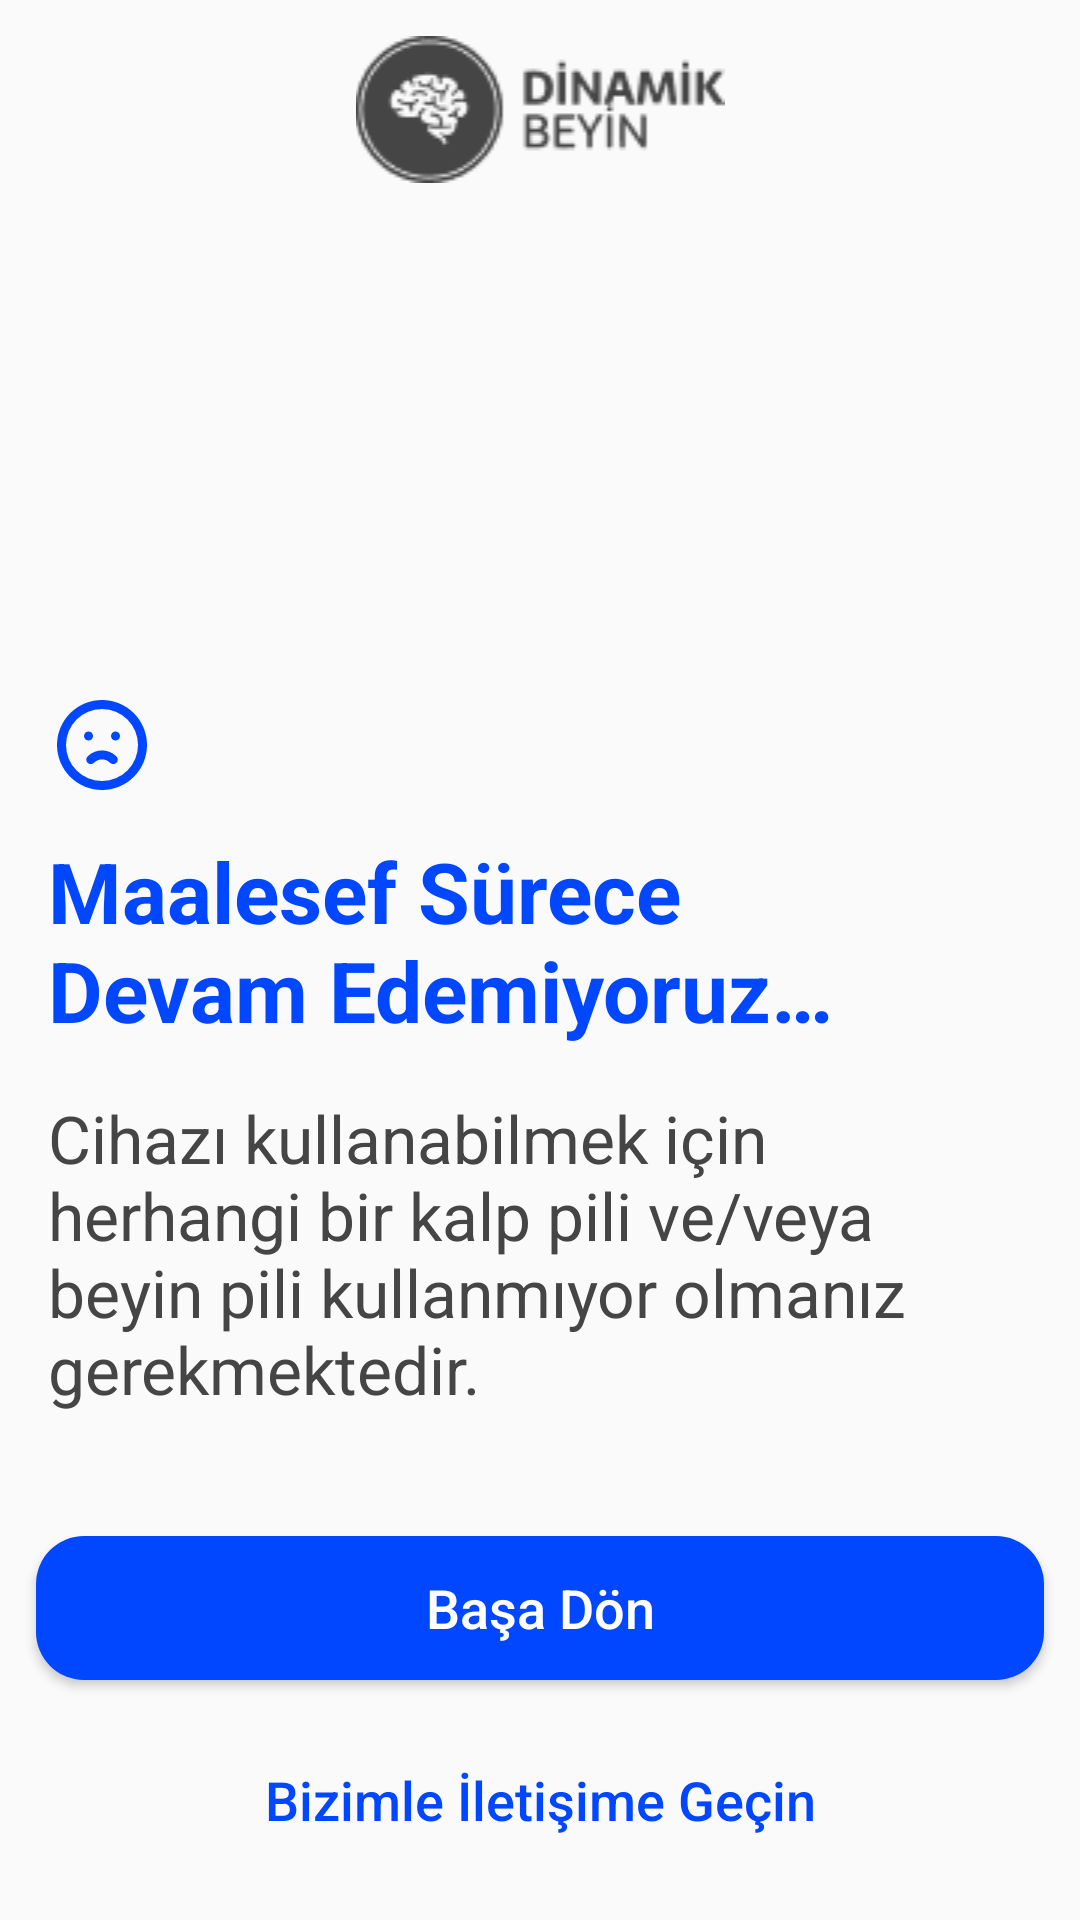

Where icons sit on this 1080px x 1920px app screen, as (x1,y1,x2,y2):
ikon first setup error: (57,700,147,790)
